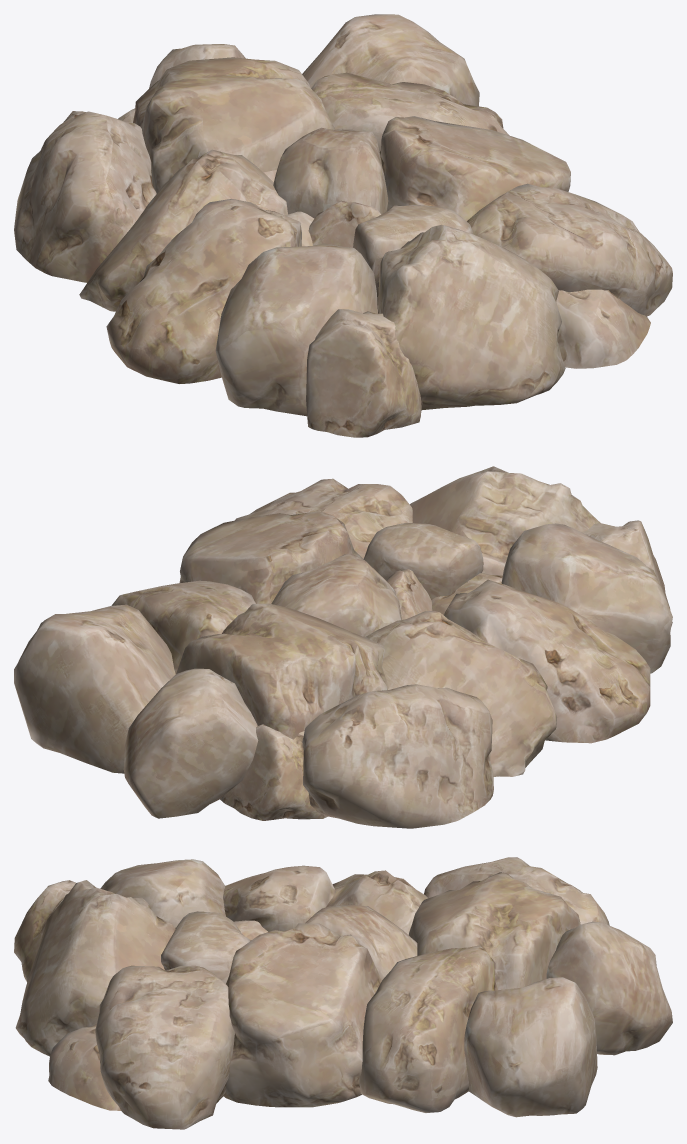
The model's file is Stonegroup_01.FBX.
The picture shows the model from 3 angles, top to bottom: view 1: azimuth 30°, elevation 25°; view 2: azimuth 150°, elevation 25°; view 3: azimuth 270°, elevation 25°; orthographic projection. The views are drawn at different scales.
Parts seen in each view (by area): view 1: StoneGroup_01_LOD0; view 2: StoneGroup_01_LOD0; view 3: StoneGroup_01_LOD0.
Boxes of the visible parts, bbox=[...] form: StoneGroup_01_LOD0: bbox=[14, 14, 672, 437]; StoneGroup_01_LOD0: bbox=[14, 466, 672, 828]; StoneGroup_01_LOD0: bbox=[14, 857, 672, 1129].
Size of what is drawn, in the model's own units: 2.13 by 0.5974 by 2.74.
